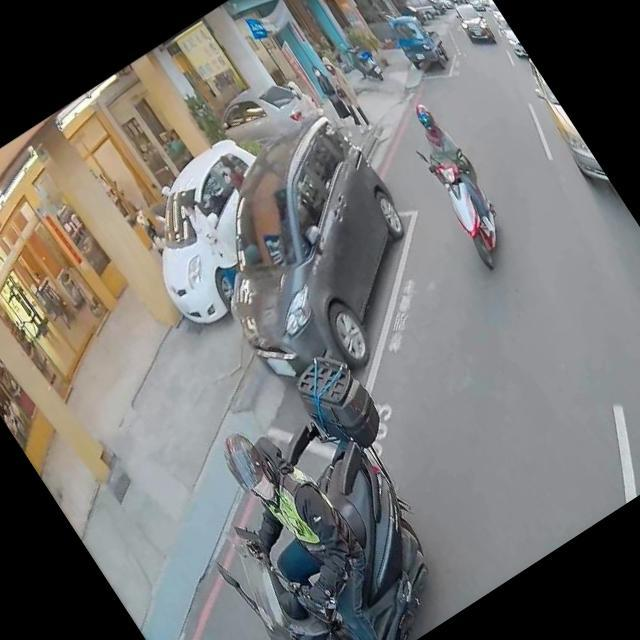person: (184, 399, 427, 640), (394, 98, 512, 248), (161, 178, 249, 292), (299, 56, 366, 142), (312, 48, 379, 134), (276, 72, 322, 125), (208, 146, 251, 196)
